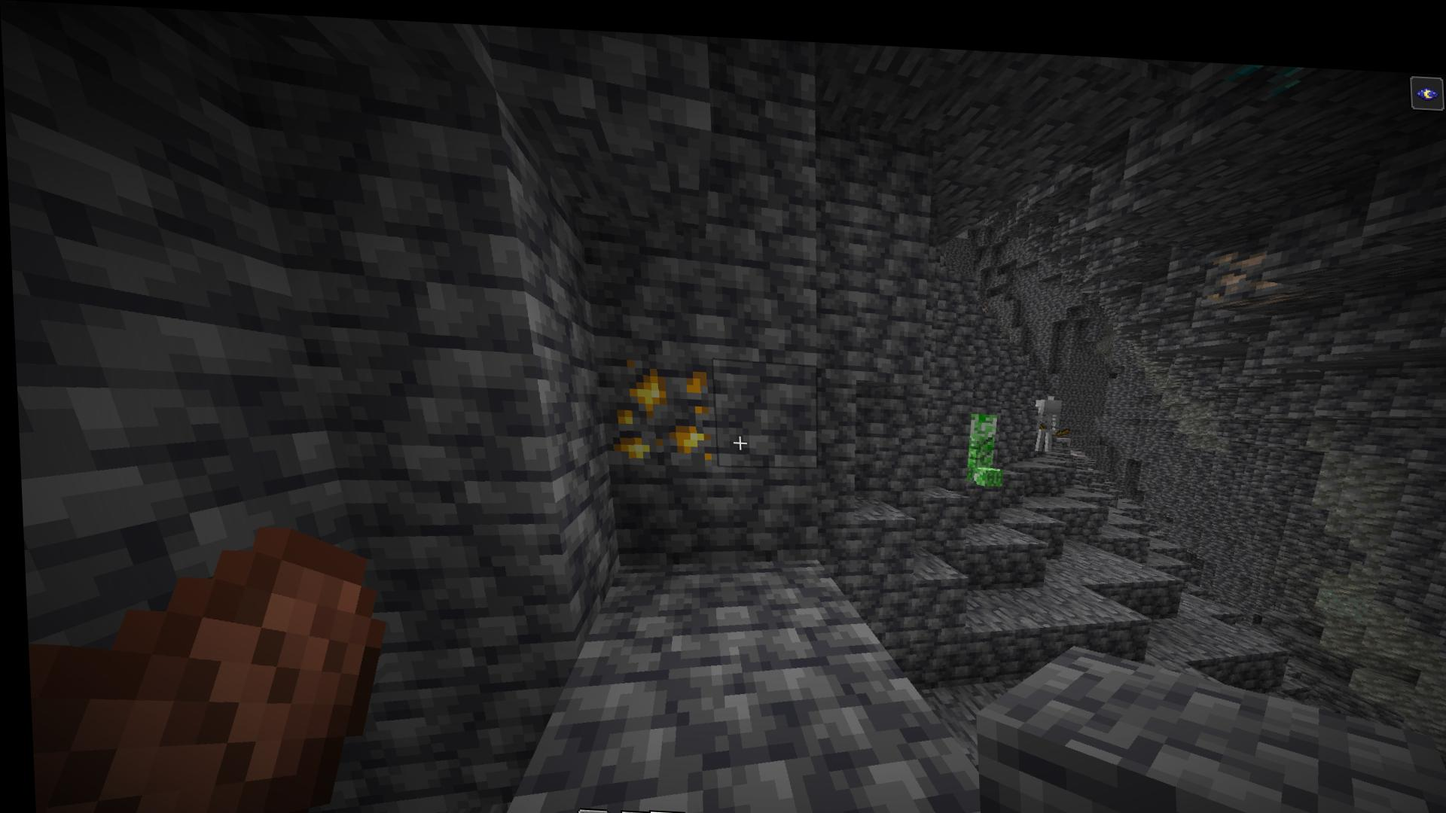diamond ore: (1225, 50, 1308, 94)
gold ore: (588, 350, 717, 467)
iron ore: (1199, 227, 1273, 301)
